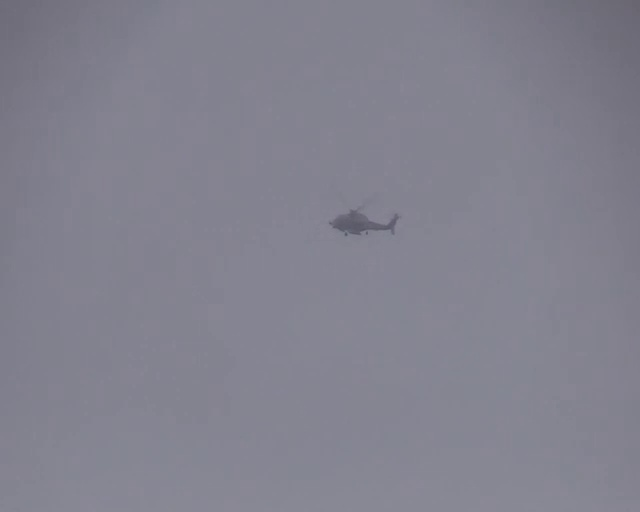HELICOPTER: (328, 193, 400, 237)
